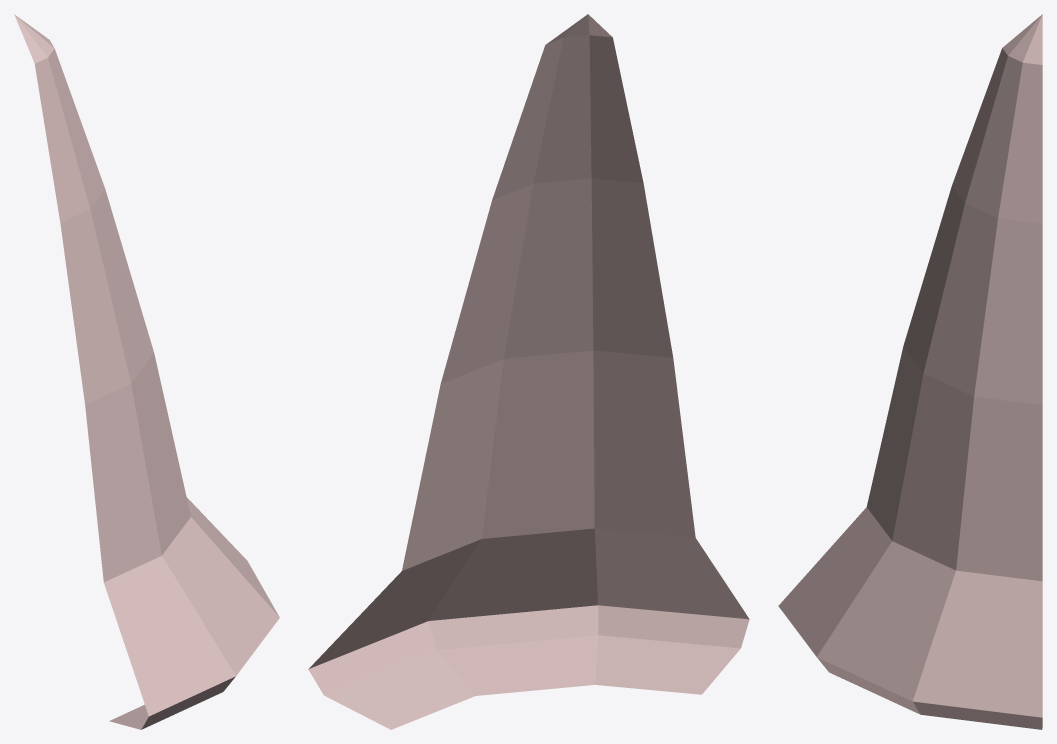
The model's file is castle_roof_corner.fbx.
3 views of the same model, side by side, from view 1: azimuth 30°, elevation 25°; view 2: azimuth 150°, elevation 25°; view 3: azimuth 270°, elevation 25° (orthographic). The views are drawn at different scales.
Parts seen in each view (by area): view 1: castle_roof_corner_01; view 2: castle_roof_corner_01; view 3: castle_roof_corner_01.
Part boxes in pixels (x1=…): castle_roof_corner_01: x1=14, y1=14, x2=279, y2=729; castle_roof_corner_01: x1=308, y1=14, x2=749, y2=729; castle_roof_corner_01: x1=778, y1=14, x2=1042, y2=729.
Size of the model in its own units: 8.26 by 21.53 by 8.25.
